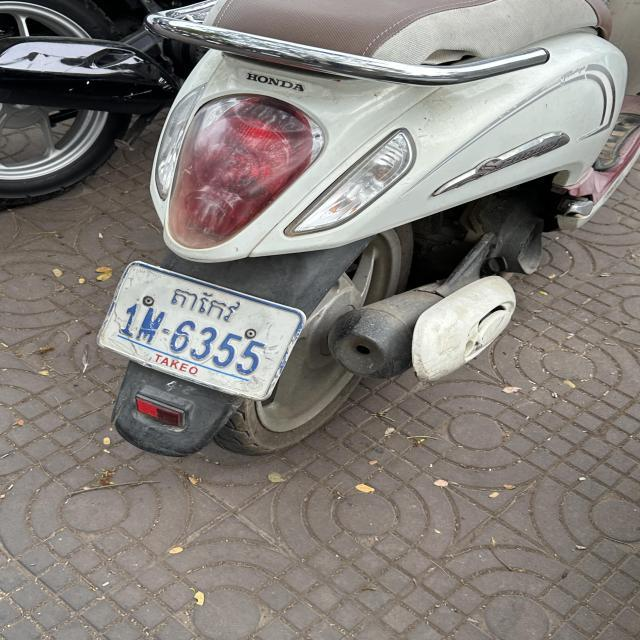Takeo: (170, 286, 242, 322)
